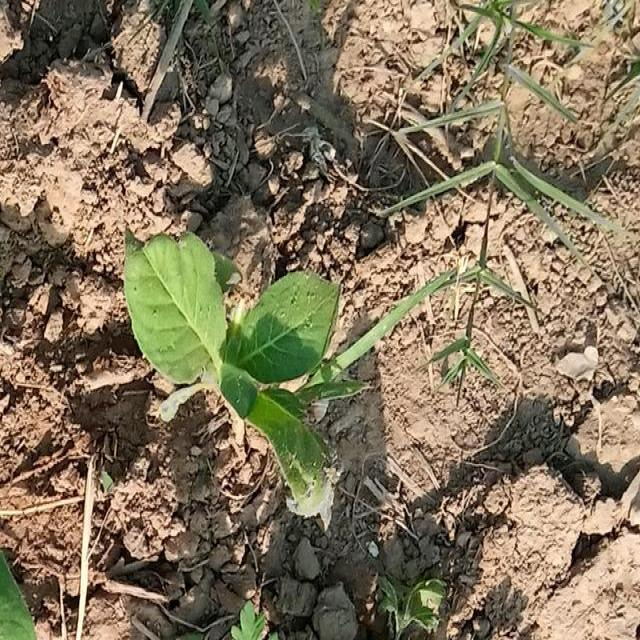crop: (122, 223, 338, 521)
